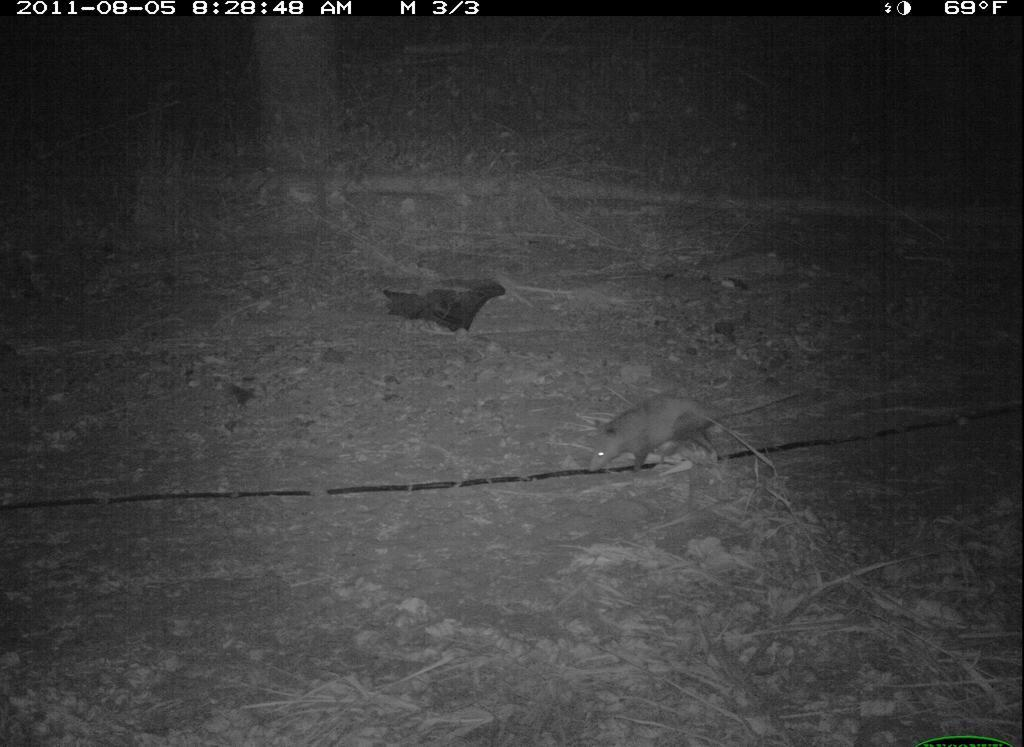opossum: (578, 386, 811, 478)
